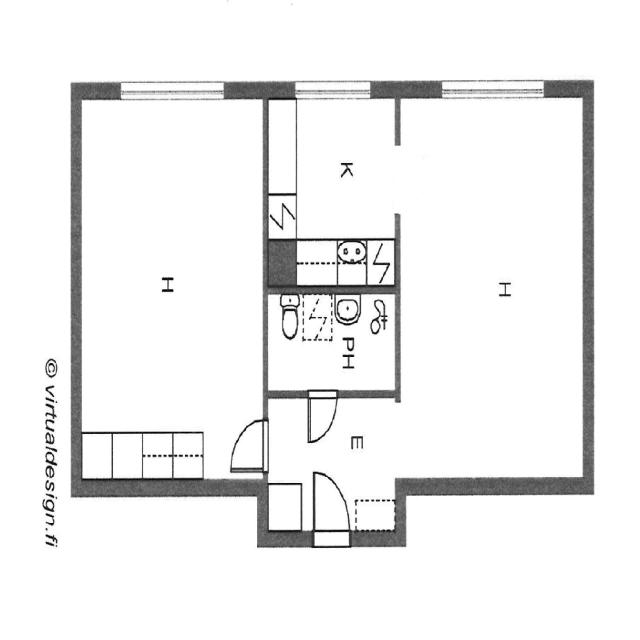door: (307, 466, 355, 546), (225, 412, 271, 476), (303, 384, 341, 449)
window: (436, 70, 547, 117), (115, 72, 228, 118), (289, 75, 377, 112)
zone: (403, 95, 590, 490), (80, 90, 267, 481), (264, 94, 399, 288), (263, 284, 400, 394)
